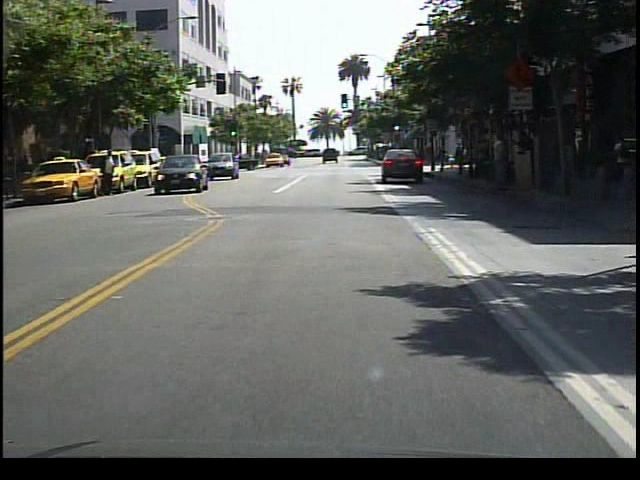person: (488, 130, 513, 199), (100, 147, 120, 202)
